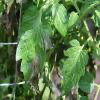Potato leaf late blight: (15, 5, 54, 94)
